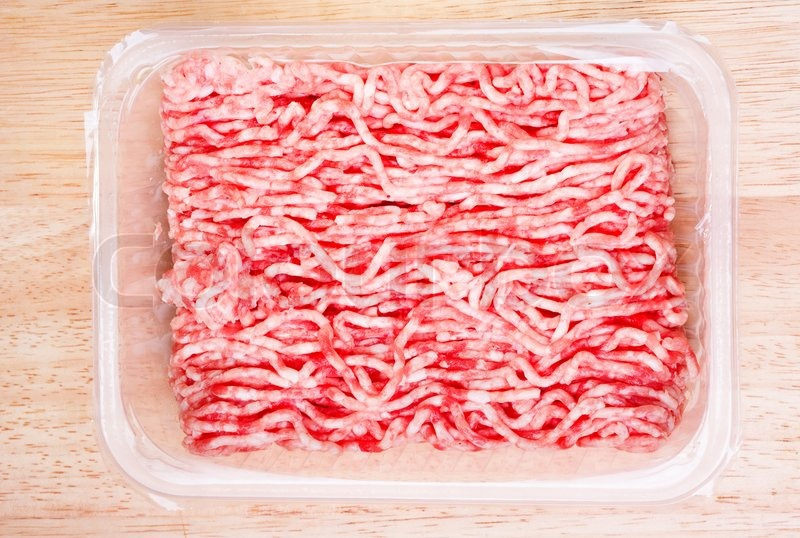ground_beef: (153, 59, 687, 456)
